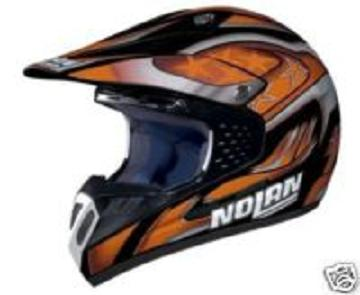helmet: (34, 17, 332, 249)
